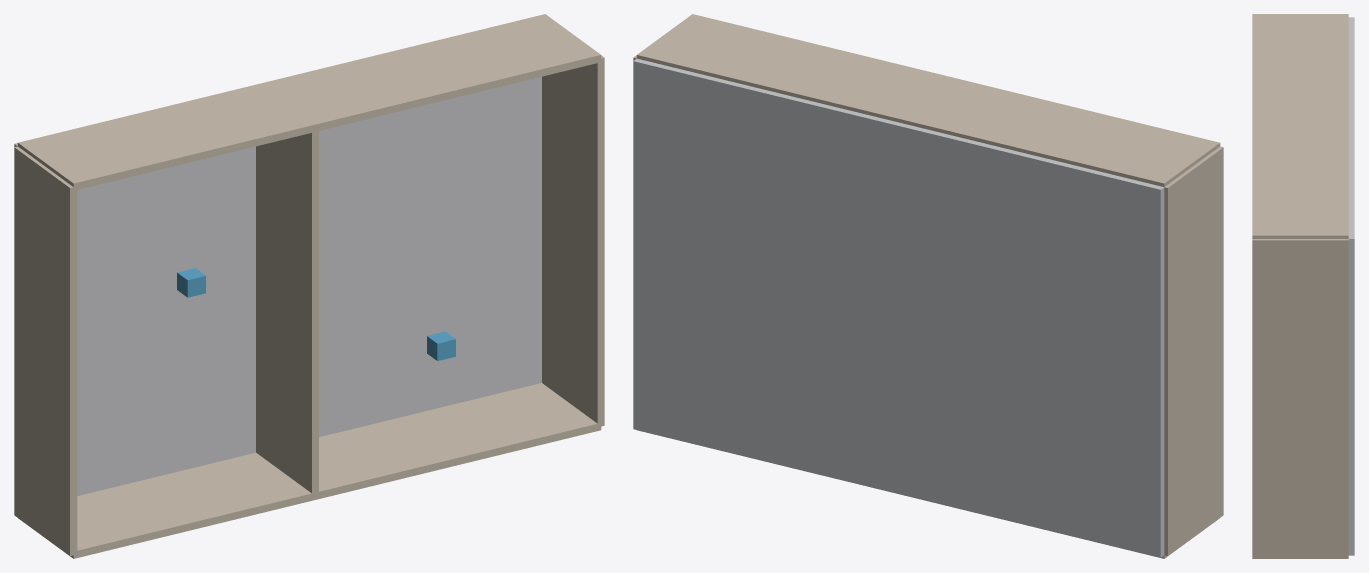
Rendered from floor_1.glb.
3 views of the same model, side by side, from view 1: azimuth 30°, elevation 25°; view 2: azimuth 150°, elevation 25°; view 3: azimuth 270°, elevation 25° (orthographic). The views are drawn at different scales.
Parts seen in each view (by area): view 1: Floor, Wall_N, Wall_S, Wall_W, Wall_E, Wall_Center, IfcSensor/AirQuality_Office, IfcSensor/Heater_Office; view 2: Floor, Wall_N, Wall_W; view 3: Wall_E, Wall_N, Floor, Wall_S.
Part boxes in pixels (x1=…): Floor: x1=14, y1=76, x2=541, y2=495; Wall_N: x1=17, y1=14, x2=601, y2=190; Wall_S: x1=18, y1=383, x2=601, y2=558; Wall_W: x1=14, y1=146, x2=77, y2=555; Wall_E: x1=542, y1=55, x2=604, y2=427; Wall_Center: x1=256, y1=127, x2=318, y2=496; IfcSensor/AirQuality_Office: x1=177, y1=268, x2=205, y2=297; IfcSensor/Heater_Office: x1=427, y1=331, x2=455, y2=360; Floor: x1=633, y1=58, x2=1164, y2=557; Wall_N: x1=636, y1=14, x2=1220, y2=187; Wall_W: x1=1164, y1=146, x2=1223, y2=555; Wall_E: x1=1252, y1=239, x2=1348, y2=557; Wall_N: x1=1252, y1=14, x2=1348, y2=238; Floor: x1=1348, y1=17, x2=1354, y2=555; Wall_S: x1=1252, y1=557, x2=1348, y2=558.
Bounding box in the file's own units: 12.16 × 8.16 × 2.34.
